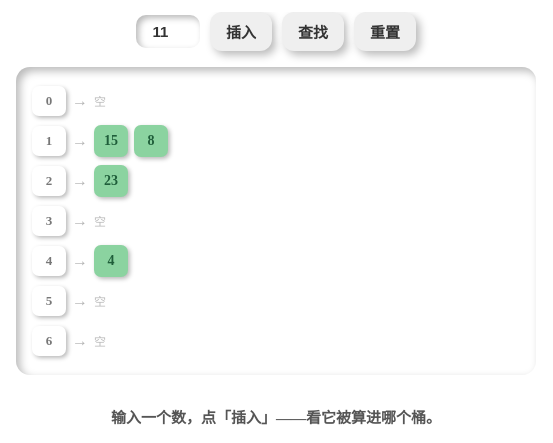
Scenario: HashViz › TC-VIZ-HASHVIZ-05 insert 查重不增、解说已存在
The width and height of the screenshot is (553, 443).
Replace the text in the number field named "值" with "15": (168, 32) [136, 15, 200, 48]
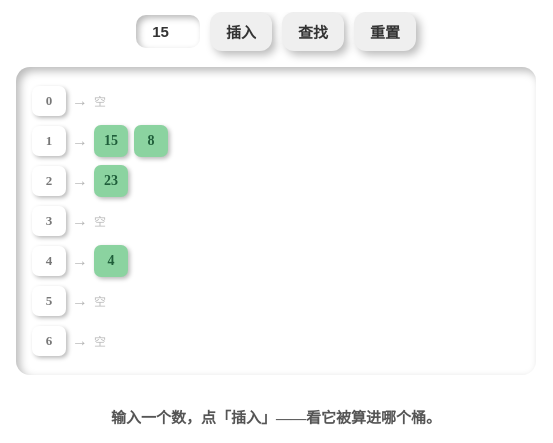
Click the button "插入": (241, 32) [210, 12, 272, 51]
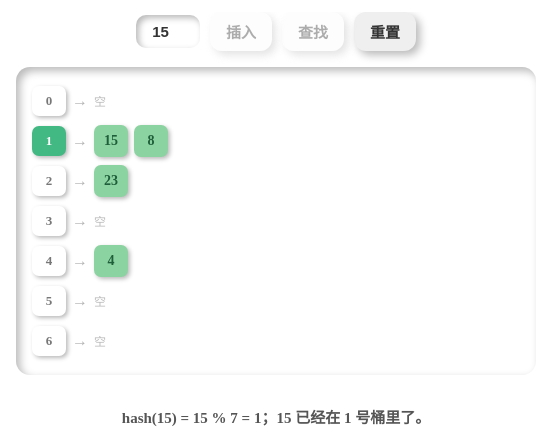
Check: the number of elements with class "entry" is 4, box [94, 125, 128, 157]; [134, 125, 168, 157]; [94, 165, 128, 197]; [94, 245, 128, 277]
Check: the message with class "status" shows "已经在", box [122, 410, 430, 426]
